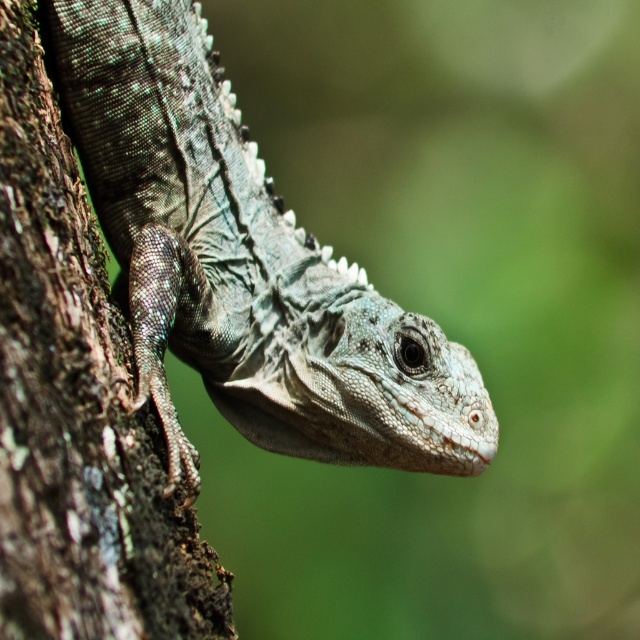Lizard: (46, 49, 520, 574)
